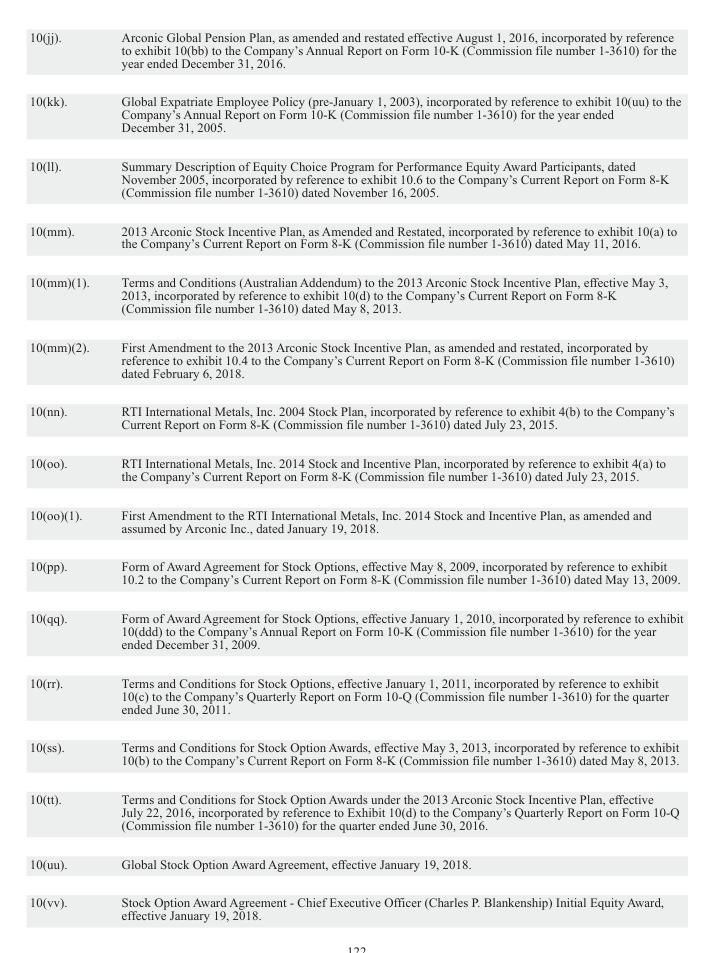table: (28, 29, 682, 922)
table column: (104, 29, 682, 922), (28, 29, 104, 922)
table row: (28, 81, 682, 146), (28, 262, 682, 327), (28, 598, 682, 663), (28, 146, 682, 210), (28, 327, 682, 391), (28, 663, 682, 727), (28, 779, 682, 843), (28, 29, 682, 81), (28, 210, 682, 262), (28, 391, 682, 443), (28, 443, 682, 495), (28, 546, 682, 598), (28, 727, 682, 779), (28, 495, 682, 546), (28, 882, 682, 922), (28, 843, 682, 882)
